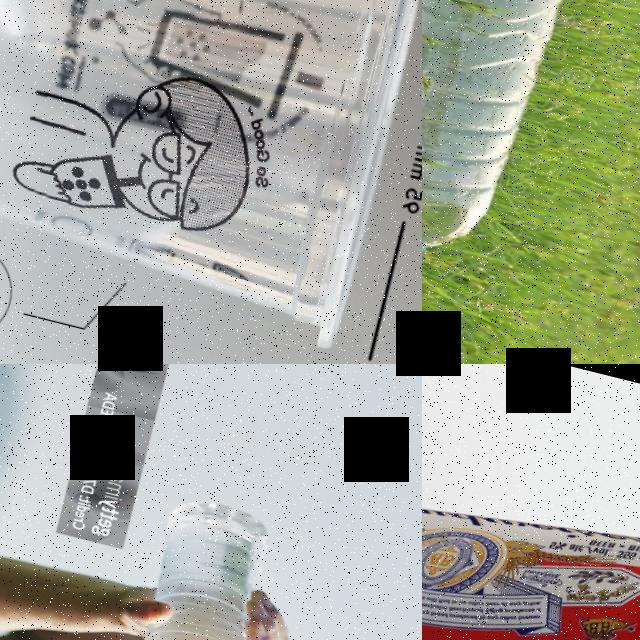bottle: (422, 0, 607, 303), (120, 489, 286, 640)
can: (422, 433, 640, 640)
cup: (0, 0, 422, 351)
